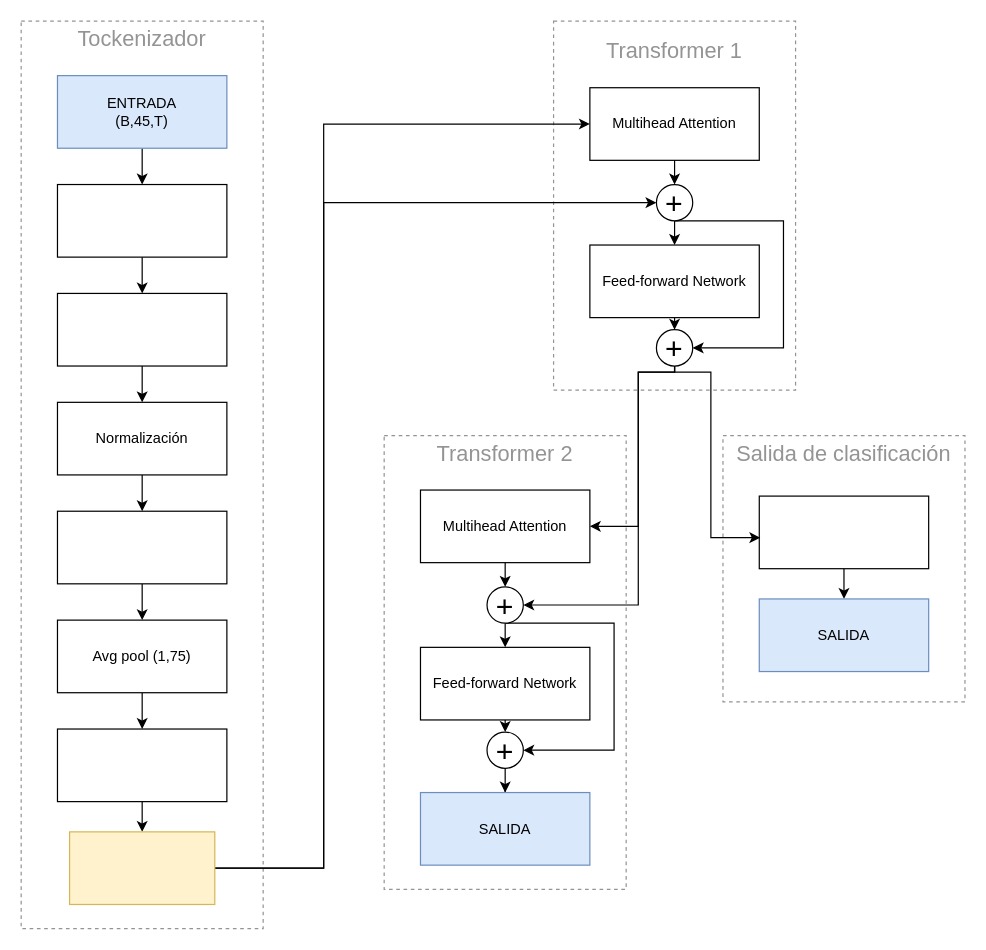
The diagram is 986 pixels wide and 950 high, and some of its shapes have lost their labels. Each missing label, with the box of its shape:
Cabeza de clasificación lineal: (758, 495, 929, 569)
Convolucion espacial 128 x kernel(45,1): (56, 292, 227, 366)
Convolucion temporal 64 x kernel(1,25): (56, 183, 227, 257)
convolución d proyección: (56, 728, 227, 802)
ELU: (56, 510, 227, 584)
Enmascaramiento de tokens: (68, 831, 215, 904)
